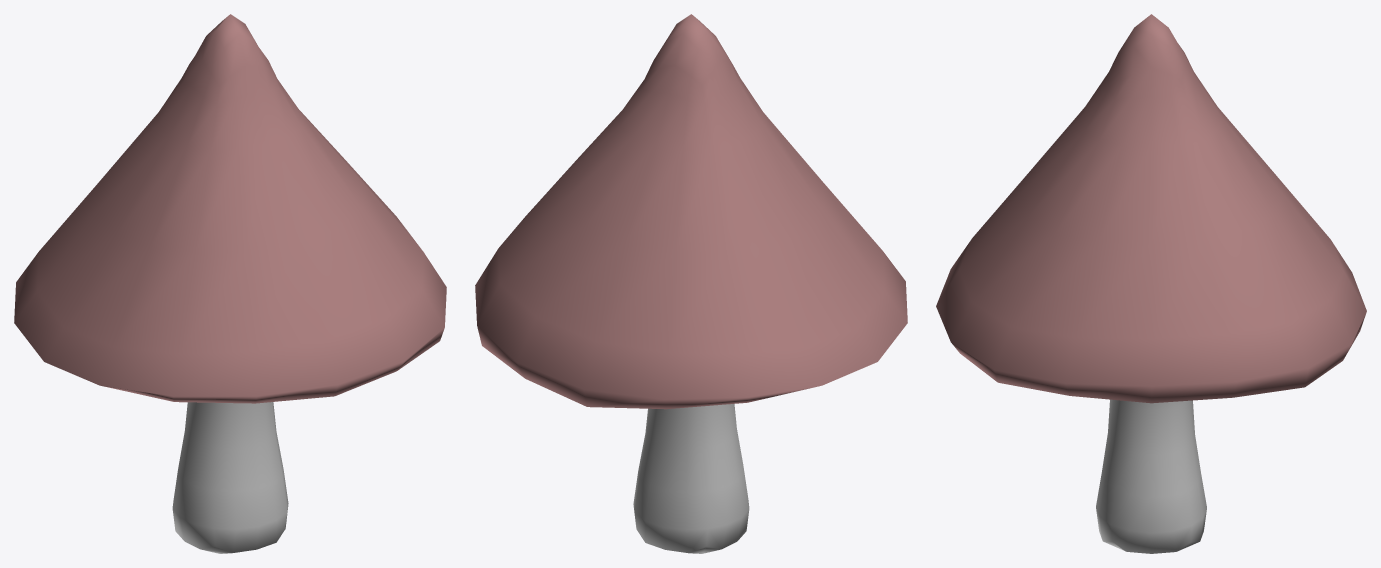
File: M_Mushroom1c.fbx
3 renders of one model, left to right at view 1: azimuth 30°, elevation 25°; view 2: azimuth 150°, elevation 25°; view 3: azimuth 270°, elevation 25°, orthographic.
Visible parts, largest first — view 1: polySurface84; view 2: polySurface84; view 3: polySurface84.
Boxes of the visible parts, x1=… form: polySurface84: x1=14, y1=14, x2=446, y2=553; polySurface84: x1=475, y1=14, x2=907, y2=553; polySurface84: x1=936, y1=14, x2=1366, y2=553.
Bounding box in the file's own units: 0.2435 × 0.3267 × 0.2435.
